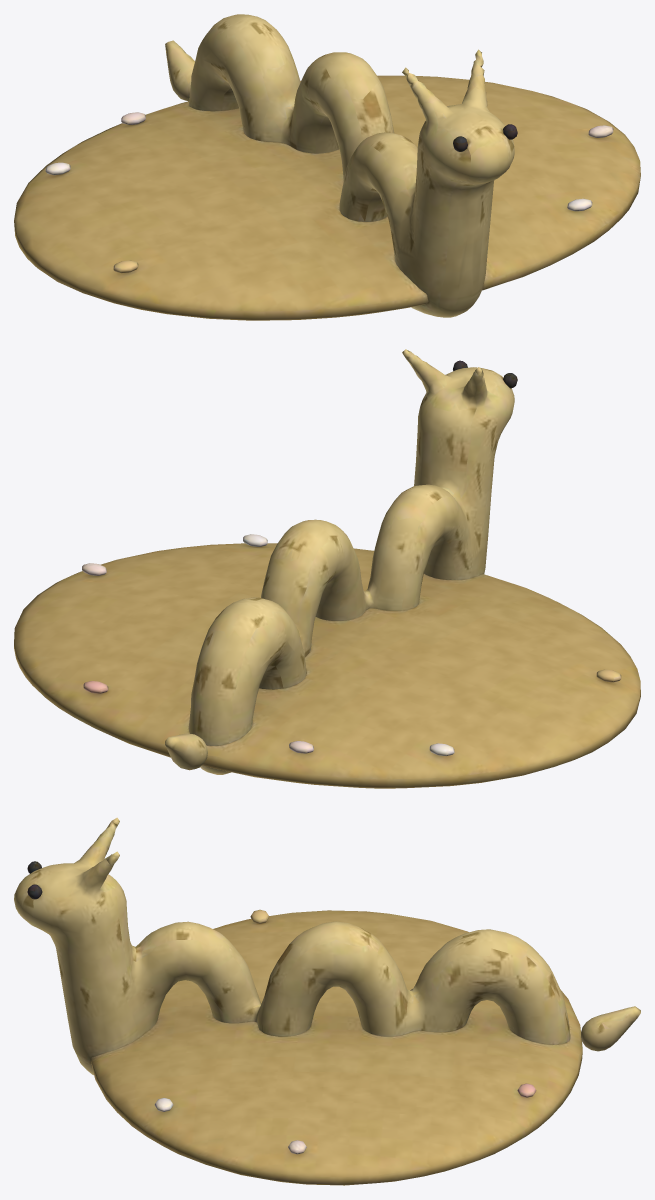
Rendered from sand_serpent.glb.
The picture shows the model from 3 angles, top to bottom: view 1: azimuth 30°, elevation 25°; view 2: azimuth 150°, elevation 25°; view 3: azimuth 270°, elevation 25°; orthographic projection. The views are drawn at different scales.
Parts seen in each view (by area): view 1: sand_serpent; view 2: sand_serpent; view 3: sand_serpent.
Part boxes in pixels (left/top/right/bottom): sand_serpent: left=14, top=14, right=640, bottom=320; sand_serpent: left=14, top=349, right=640, bottom=788; sand_serpent: left=14, top=817, right=640, bottom=1185.
Bounding box in the file's own units: 0.9197 × 0.3944 × 0.9155.
1 material, 1 textured.
